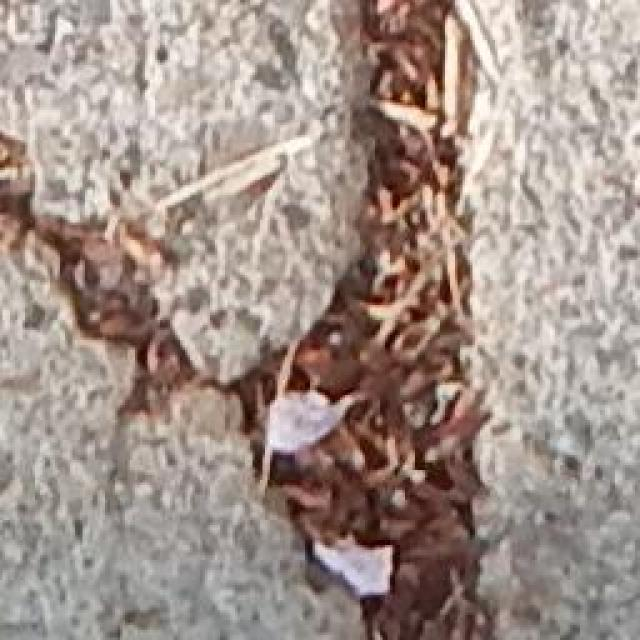concrete-crack: (0, 0, 503, 640)
